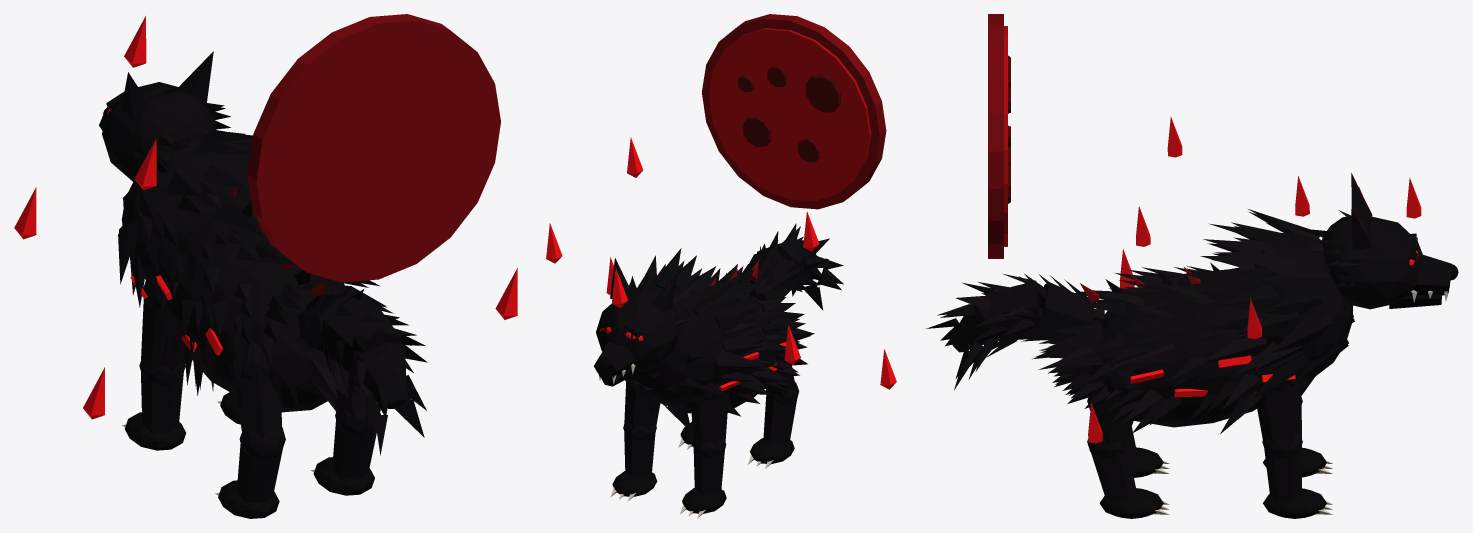
File: fenrir.obj
3 renders of one model, left to right at view 1: azimuth 30°, elevation 25°; view 2: azimuth 150°, elevation 25°; view 3: azimuth 270°, elevation 25°, orthographic. The views are drawn at different scales.
Parts seen in each view (by area): view 1: Moon_15_m49, Body_1_m1, Head_2_m8, Body_1_m4, Body_1_m3, Body_1_m2, Tail2_5_m25, Leg3Up_11_m41, Tail3_6_m29, Leg3Lo_12_m42, Leg1Lo_8_m34, Leg4Lo_14_m46 (+13 smaller); view 2: Moon_15_m50, Body_1_m1, Moon_15_m49, Head_2_m8, Body_1_m4, Moon_15_m51, Body_1_m3, Body_1_m2, Leg1Up_7_m33, Leg1Lo_8_m34, Leg2Lo_10_m38, Leg3Lo_12_m42 (+7 smaller); view 3: Body_1_m1, Head_2_m8, Body_1_m3, Body_1_m4, Body_1_m2, Moon_15_m49, Tail2_5_m25, Tail1_4_m21, Leg2Up_9_m37, Leg2Lo_10_m38, Leg4Lo_14_m46, Leg4Up_13_m45 (+7 smaller).
Boxes of the visible parts, box(x1,y1,x2,y2) form: Moon_15_m49: box(247, 14, 500, 282); Body_1_m1: box(121, 132, 393, 412); Head_2_m8: box(99, 51, 230, 181); Body_1_m4: box(119, 133, 368, 409); Body_1_m3: box(118, 138, 386, 407); Body_1_m2: box(151, 129, 349, 413); Tail2_5_m25: box(320, 297, 427, 372); Leg3Up_11_m41: box(227, 342, 282, 440); Tail3_6_m29: box(353, 343, 424, 455); Leg3Lo_12_m42: box(236, 427, 285, 503); Leg1Lo_8_m34: box(139, 357, 185, 433); Leg4Lo_14_m46: box(332, 402, 380, 479); Moon_15_m50: box(708, 28, 870, 201); Body_1_m1: box(625, 255, 814, 416); Moon_15_m49: box(702, 14, 886, 209); Head_2_m8: box(594, 258, 686, 379); Body_1_m4: box(631, 261, 795, 432); Moon_15_m51: box(738, 65, 840, 162); Body_1_m3: box(638, 255, 807, 406); Body_1_m2: box(638, 248, 810, 388); Leg1Up_7_m33: box(691, 383, 729, 446); Leg1Lo_8_m34: box(692, 439, 726, 493); Leg2Lo_10_m38: box(623, 422, 656, 476); Leg3Lo_12_m42: box(763, 381, 799, 443); Body_1_m1: box(1035, 222, 1353, 433); Head_2_m8: box(1320, 173, 1451, 309); Body_1_m3: box(1032, 222, 1348, 425); Body_1_m4: box(1048, 211, 1348, 425); Body_1_m2: box(1040, 209, 1354, 421); Moon_15_m49: box(988, 14, 1003, 258); Tail2_5_m25: box(974, 281, 1042, 341); Tail1_4_m21: box(1014, 282, 1094, 343); Leg2Up_9_m37: box(1256, 367, 1301, 445); Leg2Lo_10_m38: box(1262, 433, 1302, 502); Leg4Lo_14_m46: box(1087, 437, 1136, 502); Leg4Up_13_m45: box(1096, 364, 1139, 447).
Size of the model in its own units: 5.2 by 6.52 by 6.7.
